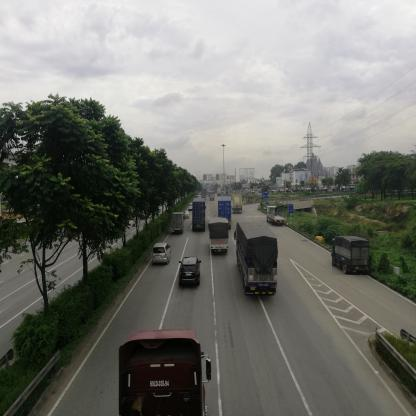car: (181, 258, 201, 286), (154, 244, 171, 266), (185, 212, 191, 219)
container: (120, 331, 209, 416), (193, 199, 206, 234), (218, 196, 232, 220), (233, 196, 243, 215)
truck: (236, 224, 278, 297), (333, 237, 370, 276), (210, 219, 230, 257), (268, 207, 288, 228), (173, 214, 186, 236)
